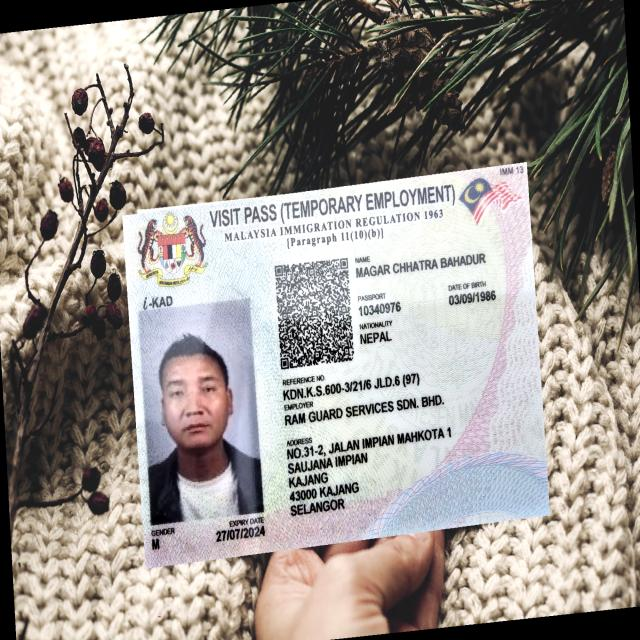ikad-temp: (121, 160, 551, 569)
